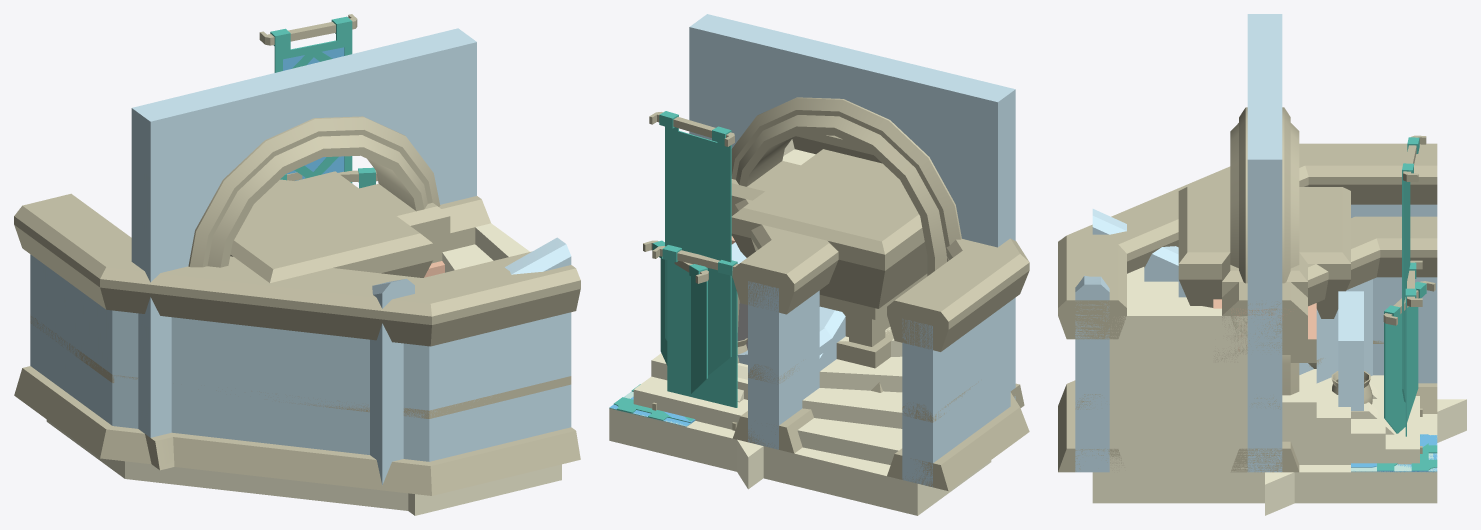
The model's file is SC_Regress_Egress.fbx.
3 renders of one model, left to right at view 1: azimuth 30°, elevation 25°; view 2: azimuth 150°, elevation 25°; view 3: azimuth 270°, elevation 25°, orthographic. The views are drawn at different scales.
Parts seen in each view (by area): view 1: SM_Wall_Straight_Doorway_Large, SM_Wall_Curved_Middle_Large, SM_Wall_Curved_Top_Large, SM_Stairs_Railing_Ramp_Curved_Large, SM_Wall_Curved_Base_Large, SM_Pillar_Wall_Top_Large_1, SM_Floor_Curved_Large, SM_Stairs_Railing_Ramp_Straight, SM_Flag_3, SM_Pillar_Wall_Top_2, SM_Balcony_Railing_Curved_Large, SM_Stairs_Steps_Curved (+3 smaller); view 2: SM_Wall_Straight_Doorway_Large, SM_Pillar_Wall_Top_Large_1, SM_Stairs_Steps_Curved, SM_Wall_Curved_Middle_Large, SM_Flag_3, SM_Wall_Curved_Top_Large, SM_Stairs_Steps_Straight, SM_Wall_Curved_Top, SM_Flag_2, SM_Wall_Curved_Window, SM_Wall_Curved_Etched, SM_Wall_Curved_Base_Large (+11 smaller); view 3: SM_Stairs_Steps_Curved, SM_Wall_Curved_Top_Large, SM_Wall_Straight_Doorway_Large, SM_Pillar_Wall_Top_Large_1, SM_Stairs_Steps_Straight, SM_Wall_Curved_Middle_Large, SM_Wall_Curved_Top, SM_Floor, SM_Wall_Curved_Middle, SM_Floor_Curved_Large, SM_Wall_Straight_Doorway, SM_Stairs_Railing_Ramp_Curved_Large (+24 smaller).
Boxes of the visible parts, box(x1,y1,x2,y2) form: SM_Wall_Straight_Doorway_Large: box(131, 28, 476, 470); SM_Wall_Curved_Middle_Large: box(30, 254, 571, 461); SM_Wall_Curved_Top_Large: box(14, 193, 580, 346); SM_Stairs_Railing_Ramp_Curved_Large: box(32, 237, 571, 461); SM_Wall_Curved_Base_Large: box(14, 366, 580, 495); SM_Pillar_Wall_Top_Large_1: box(230, 171, 433, 282); SM_Floor_Curved_Large: box(46, 420, 561, 512); SM_Stairs_Railing_Ramp_Straight: box(370, 278, 414, 484); SM_Flag_3: box(259, 14, 357, 182); SM_Pillar_Wall_Top_2: box(335, 184, 450, 238); SM_Balcony_Railing_Curved_Large: box(30, 315, 571, 418); SM_Stairs_Steps_Curved: box(442, 223, 529, 272); SM_Wall_Straight_Doorway_Large: box(689, 14, 1024, 407); SM_Pillar_Wall_Top_Large_1: box(731, 149, 927, 319); SM_Stairs_Steps_Curved: box(779, 139, 902, 511); SM_Wall_Curved_Middle_Large: box(902, 301, 1010, 487); SM_Flag_3: box(649, 111, 734, 375); SM_Wall_Curved_Top_Large: box(792, 134, 1029, 351); SM_Stairs_Steps_Straight: box(624, 154, 806, 470); SM_Wall_Curved_Top: box(732, 199, 838, 314); SM_Flag_2: box(652, 245, 738, 430); SM_Wall_Curved_Window: box(748, 281, 819, 449); SM_Wall_Curved_Etched: box(748, 282, 819, 448); SM_Wall_Curved_Base_Large: box(887, 392, 1029, 490); SM_Stairs_Steps_Curved: box(1109, 296, 1247, 503); SM_Wall_Curved_Top_Large: box(1058, 143, 1437, 339); SM_Wall_Straight_Doorway_Large: box(1230, 14, 1299, 472); SM_Pillar_Wall_Top_Large_1: box(1178, 187, 1350, 318); SM_Stairs_Steps_Straight: box(1127, 267, 1436, 464); SM_Wall_Curved_Middle_Large: box(1075, 204, 1437, 472); SM_Wall_Curved_Top: box(1230, 216, 1437, 307); SM_Floor: box(1294, 414, 1437, 503); SM_Wall_Curved_Middle: box(1309, 277, 1437, 383); SM_Floor_Curved_Large: box(1092, 472, 1264, 503); SM_Wall_Straight_Doorway: box(1231, 316, 1299, 472); SM_Stairs_Railing_Ramp_Curved_Large: box(1075, 275, 1109, 472).
Size of the model in its own units: 4.74 by 4.5 by 4.74.
